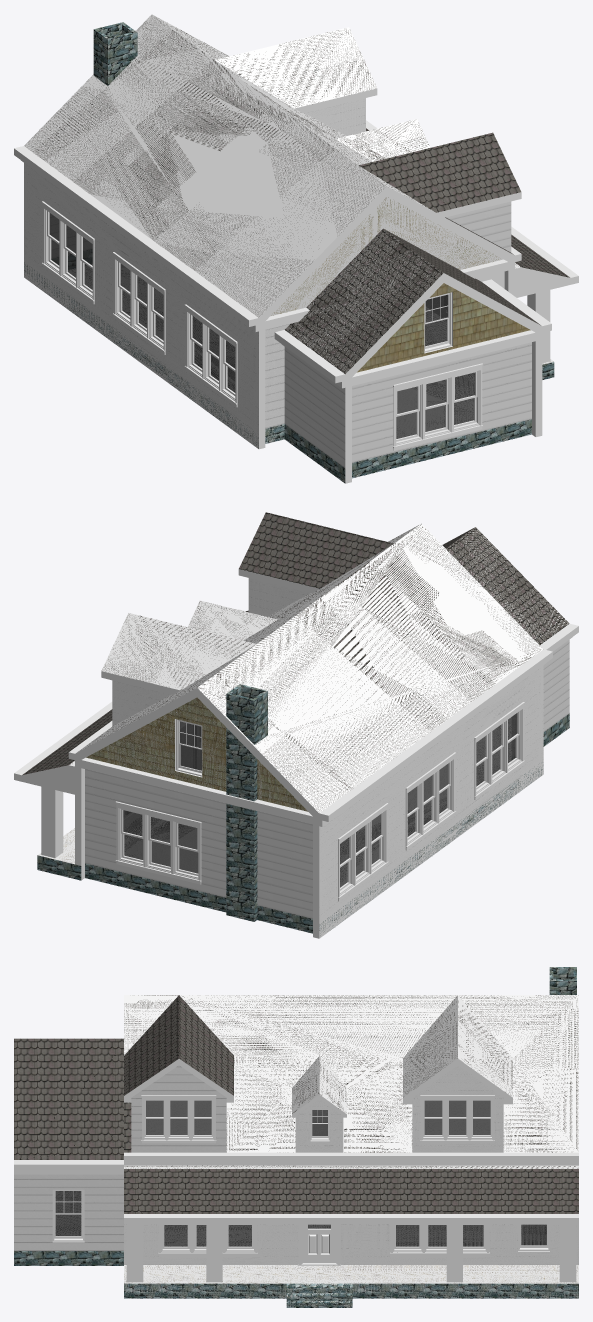
Rendered from house.dae.
The picture shows the model from 3 angles, top to bottom: view 1: azimuth 30°, elevation 25°; view 2: azimuth 150°, elevation 25°; view 3: azimuth 270°, elevation 25°; orthographic projection. The views are drawn at different scales.
Parts seen in each view (by area): view 1: Component_1 (×22), Window-3lite_8_-6x5_-4 (×4); view 2: Component_1 (×18), Window-3lite_8_-6x5_-4 (×4); view 3: Component_1 (×23), Window-3lite_8_-6x5_-4 (×8), Door-SglExtHeaderWLite_3_-0x6_-8, Lower_sash (×2).
Part boxes in pixels (x1,y1,x2,y2): Component_1 (×22): (14, 14, 578, 483); Window-3lite_8_-6x5_-4 (×4): (41, 201, 483, 450); Component_1 (×18): (14, 512, 569, 938); Window-3lite_8_-6x5_-4 (×4): (115, 702, 524, 901); Component_1 (×23): (14, 967, 578, 1307); Window-3lite_8_-6x5_-4 (×8): (141, 1095, 494, 1256); Door-SglExtHeaderWLite_3_-0x6_-8: (298, 1224, 340, 1265); Lower_sash (×2): (55, 1214, 546, 1245).
Size of the model in its own units: 402 by 616 by 270.
